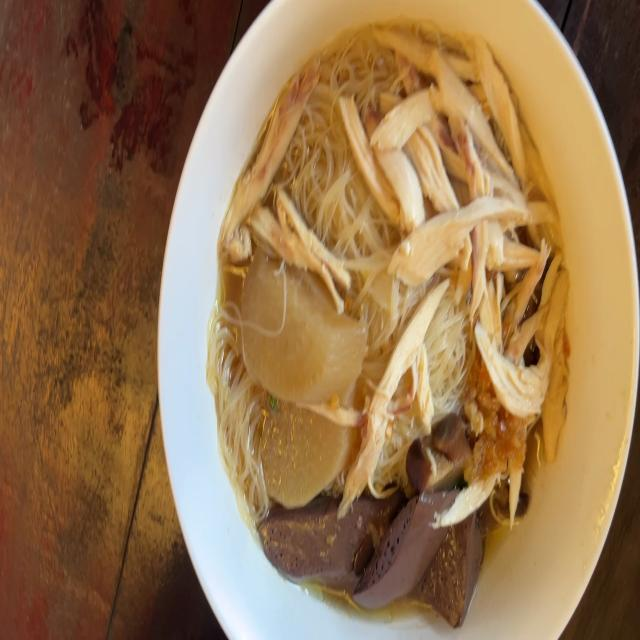noodle: (190, 12, 578, 640)
